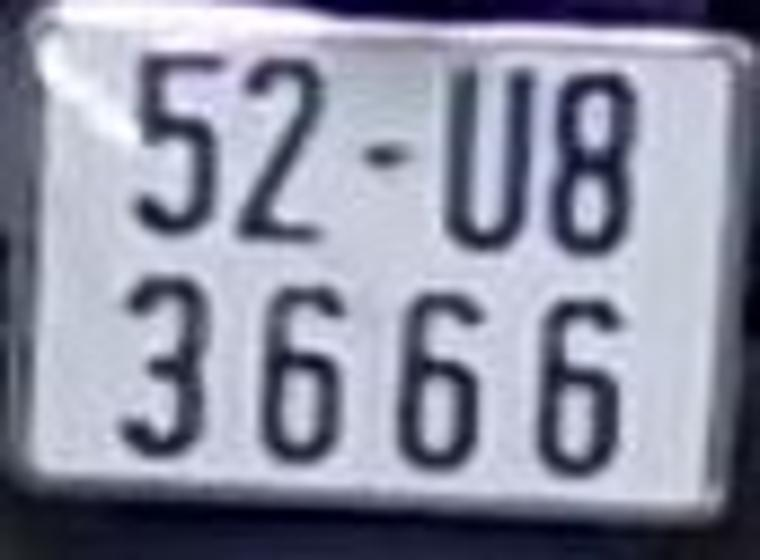-: (361, 136, 411, 174)
2: (231, 47, 342, 248)
3: (113, 265, 211, 464)
5: (131, 44, 232, 243)
6: (531, 288, 637, 481), (388, 280, 489, 475), (256, 275, 352, 470)
8: (548, 64, 643, 253)
U: (443, 66, 542, 252)
